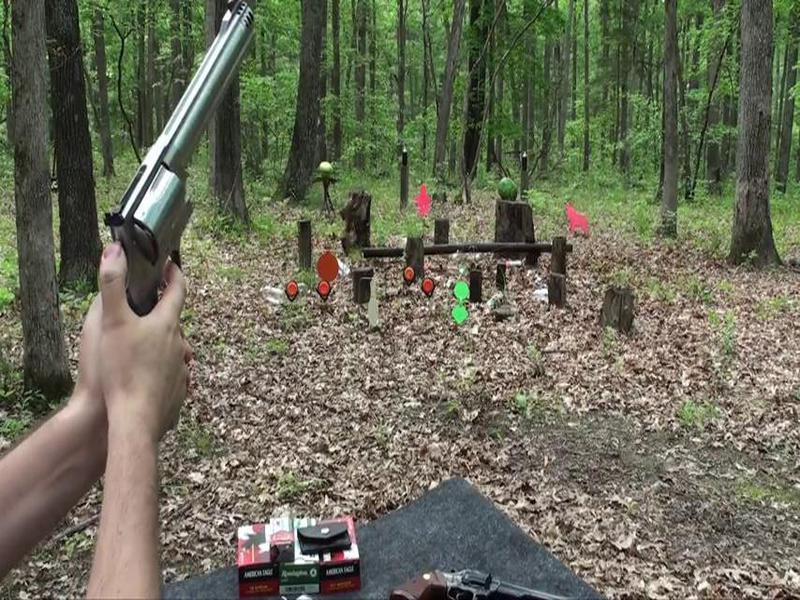Revolver: (90, 1, 292, 294)
